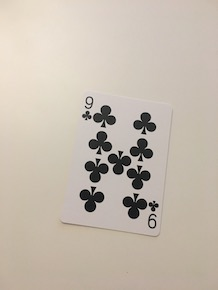NineOfClubs: (55, 87, 175, 238)
